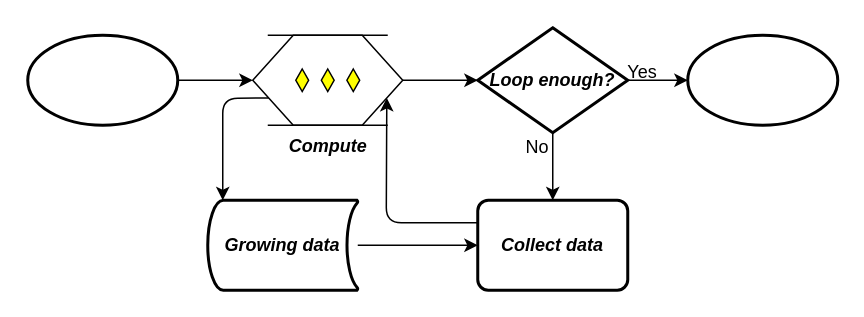
The diagram is 864 pixels wide and 317 high, and some of its shapes have lost their labels. The box of each missing label's shape, as (x1, y1, x2, y2) in pixels:
Done: (686, 33, 838, 126)
Start: (26, 33, 178, 126)
